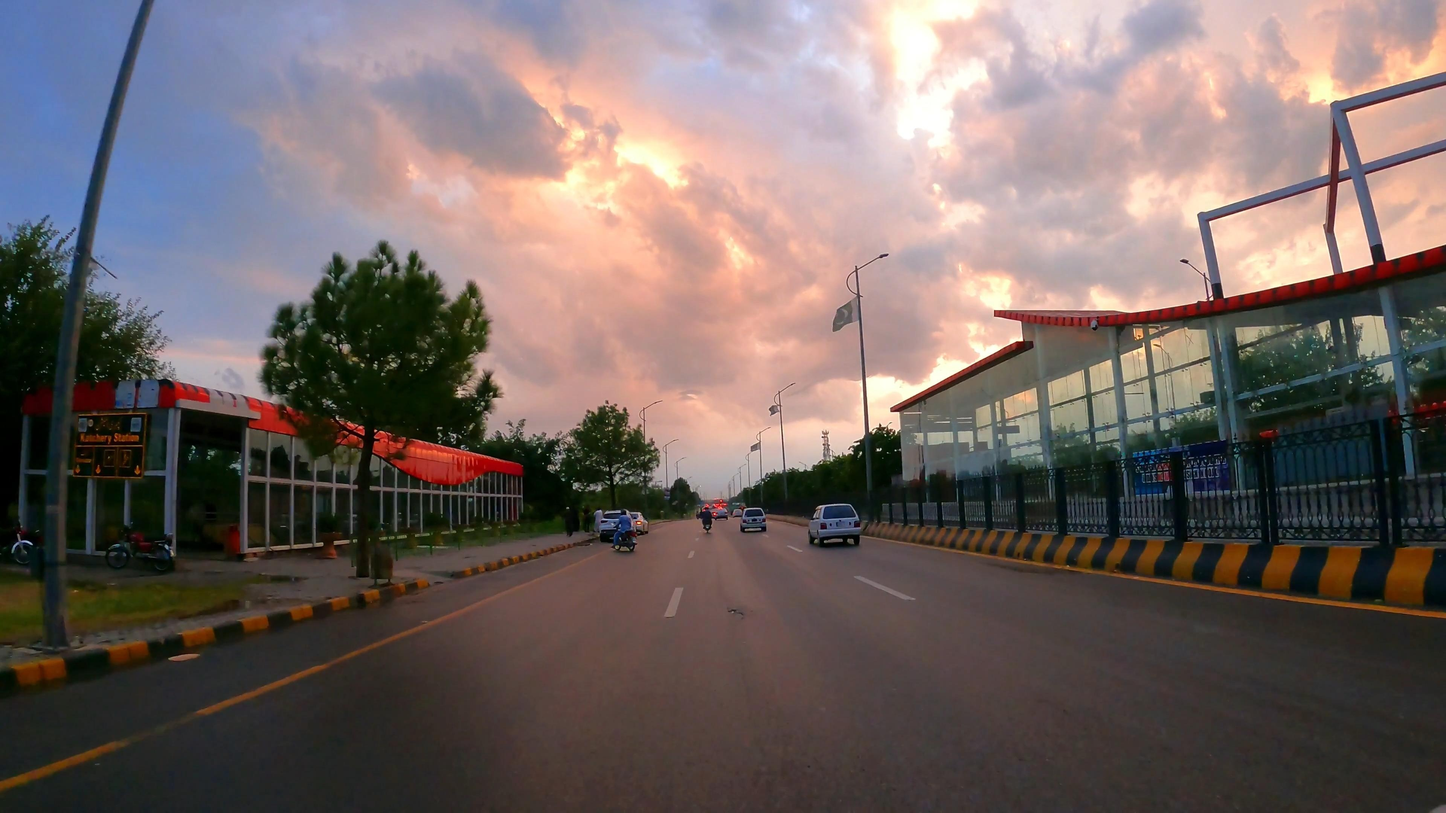dry: (0, 515, 1446, 813)
